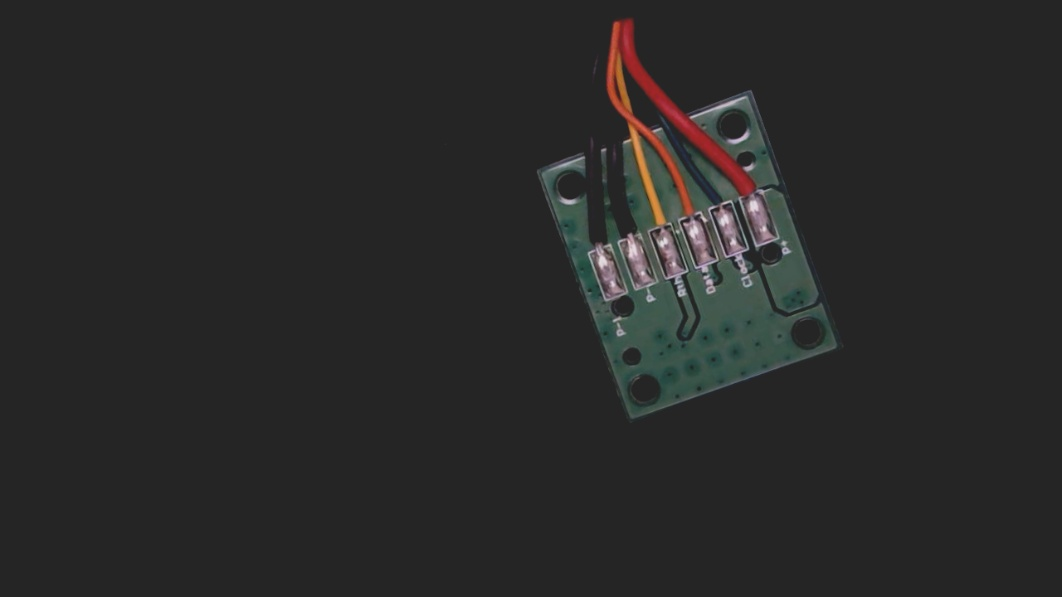Black: (603, 193, 648, 255)
Black1: (574, 210, 614, 266)
Green: (694, 160, 740, 225)
Orange: (663, 170, 708, 235)
Red: (722, 148, 768, 212)
Yellow: (636, 188, 678, 245)
